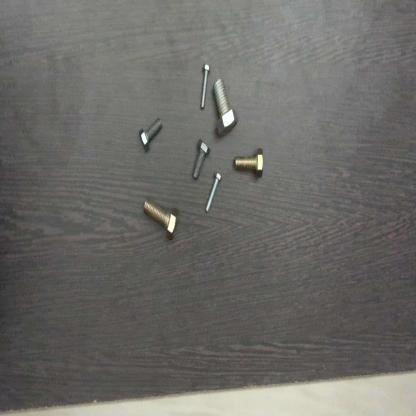Bolts: (141, 194, 183, 242), (211, 76, 238, 137), (233, 142, 266, 182), (136, 116, 166, 155), (204, 167, 223, 218), (192, 135, 211, 184)
